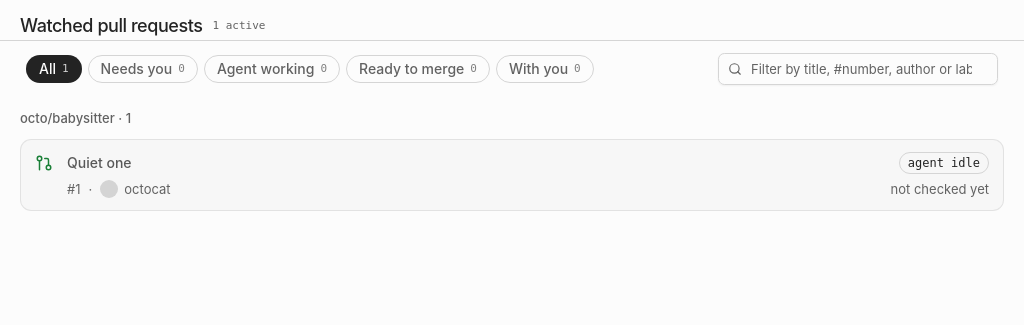
it: offers to clear the filters when no watch matches them
What coordinates should you click on to do the following:
click the radio button labelled "With you 0"
I would click on:
 (545, 69)
Its box is [496, 55, 594, 83].
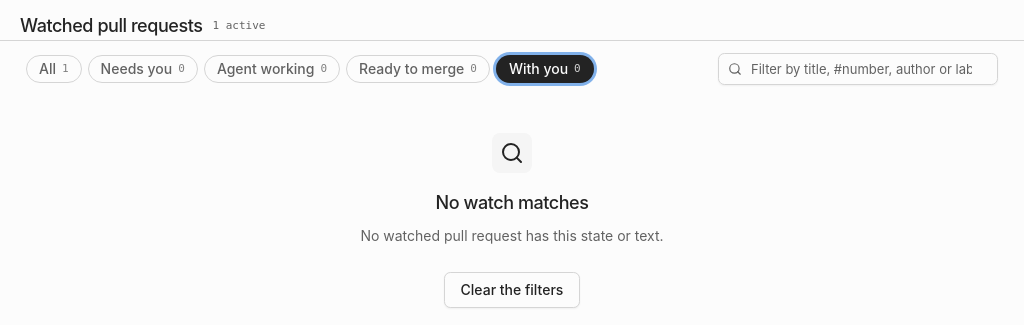
expect the text "No watch matches" is shown: met, box [436, 189, 588, 217]
What coordinates should you click on to do the following:
click the button "Clear the filters"
I would click on:
 (512, 290)
Its box is [444, 272, 580, 308].
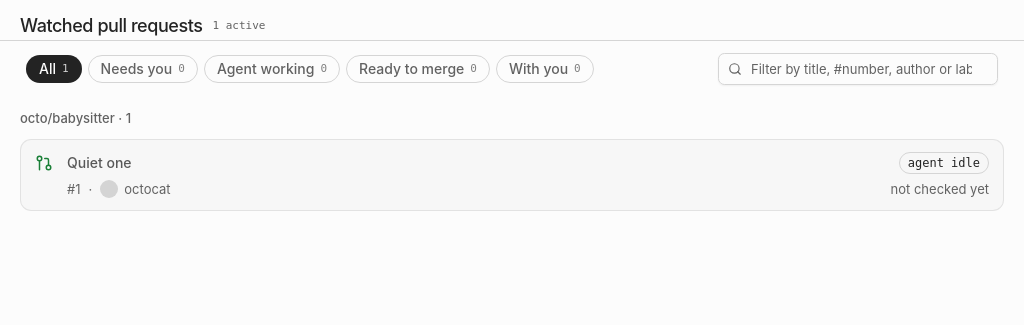
expect the radio button labelled "All 1" is checked: met, box [26, 55, 82, 83]
expect the text "Quiet one" is shown: met, box [67, 153, 132, 172]
